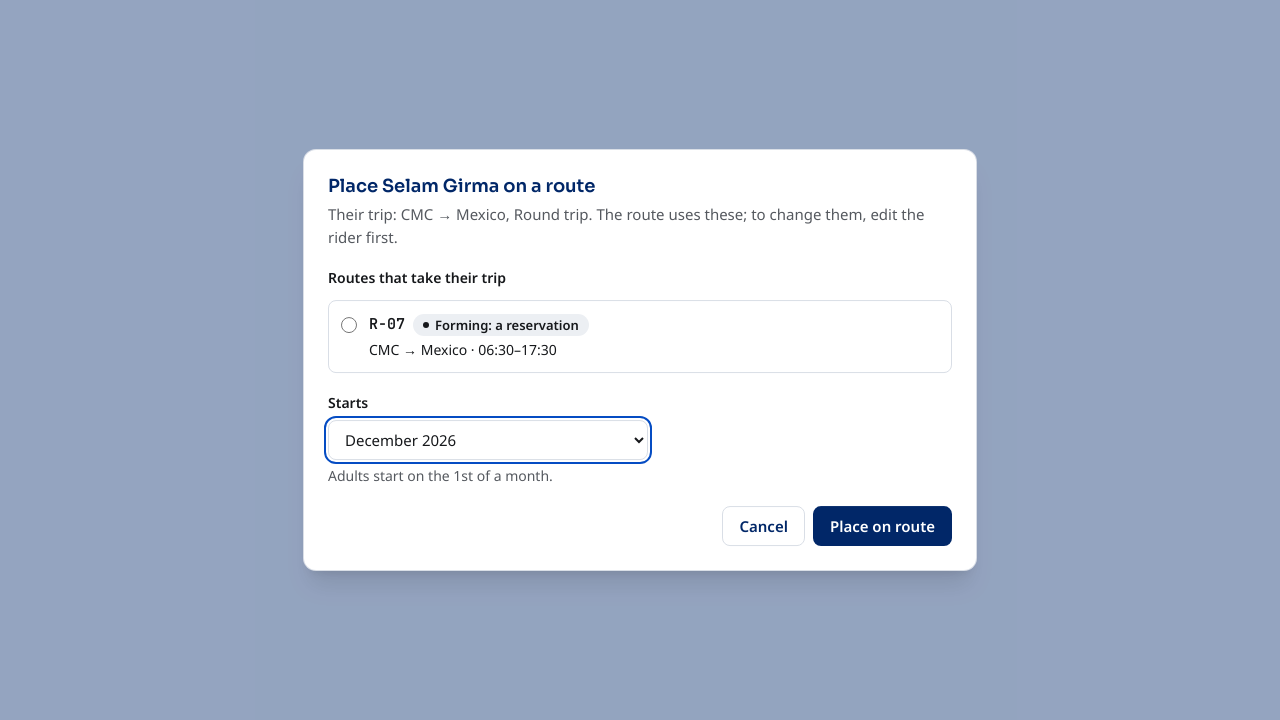
it: PlaceSeatDialog › asks for a route before sending
Expected: the radio button labelled "R-07 Forming: a reservation CMC → Mexico · 06:30–17:30" is shown, [341, 318, 357, 334]
Click the button "Place on route": [882, 526] box [813, 506, 952, 546]
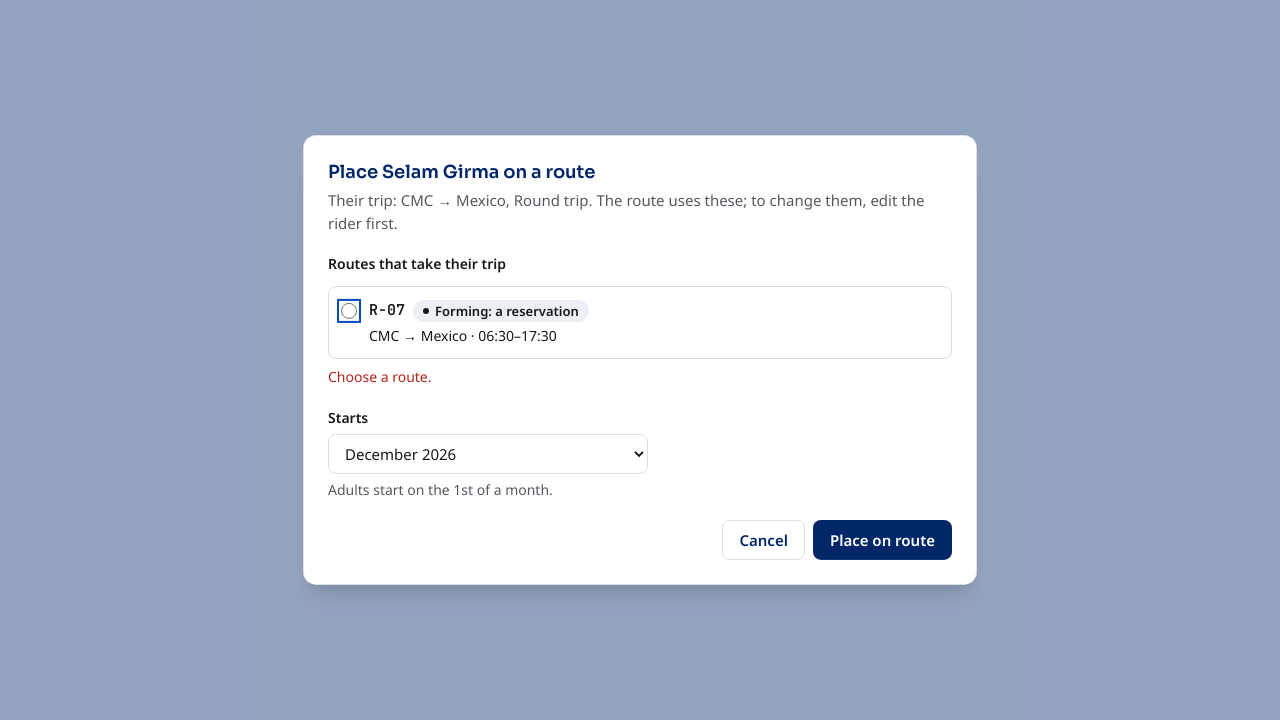
Now the text "Choose a route." is shown, box [328, 367, 432, 386]
